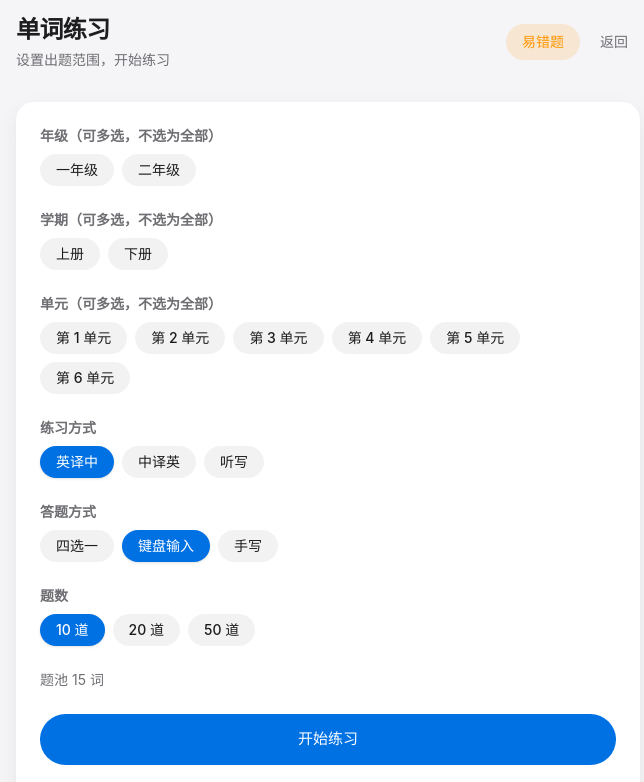
it: 单词配置页题池 (FR-ENG-05) › 题池不足所选题数时提示仅 N 题
Step 1. Click the button "二年级" → x=159, y=170, box [122,154,196,186]
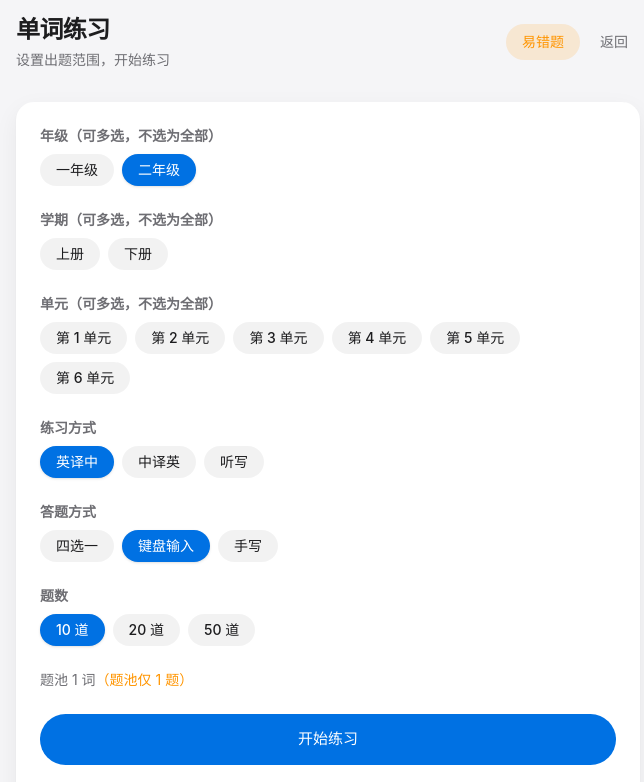
Expected: the element with test id "pool-count" shows "题池 1 词", [40,671,193,688]
Expected: the element with test id "pool-count" shows "题池仅 1 题", [40,671,193,688]
